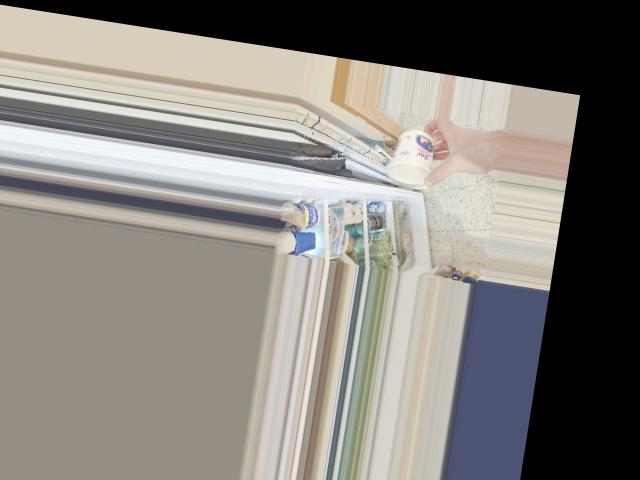cotage: (386, 122, 435, 187)
